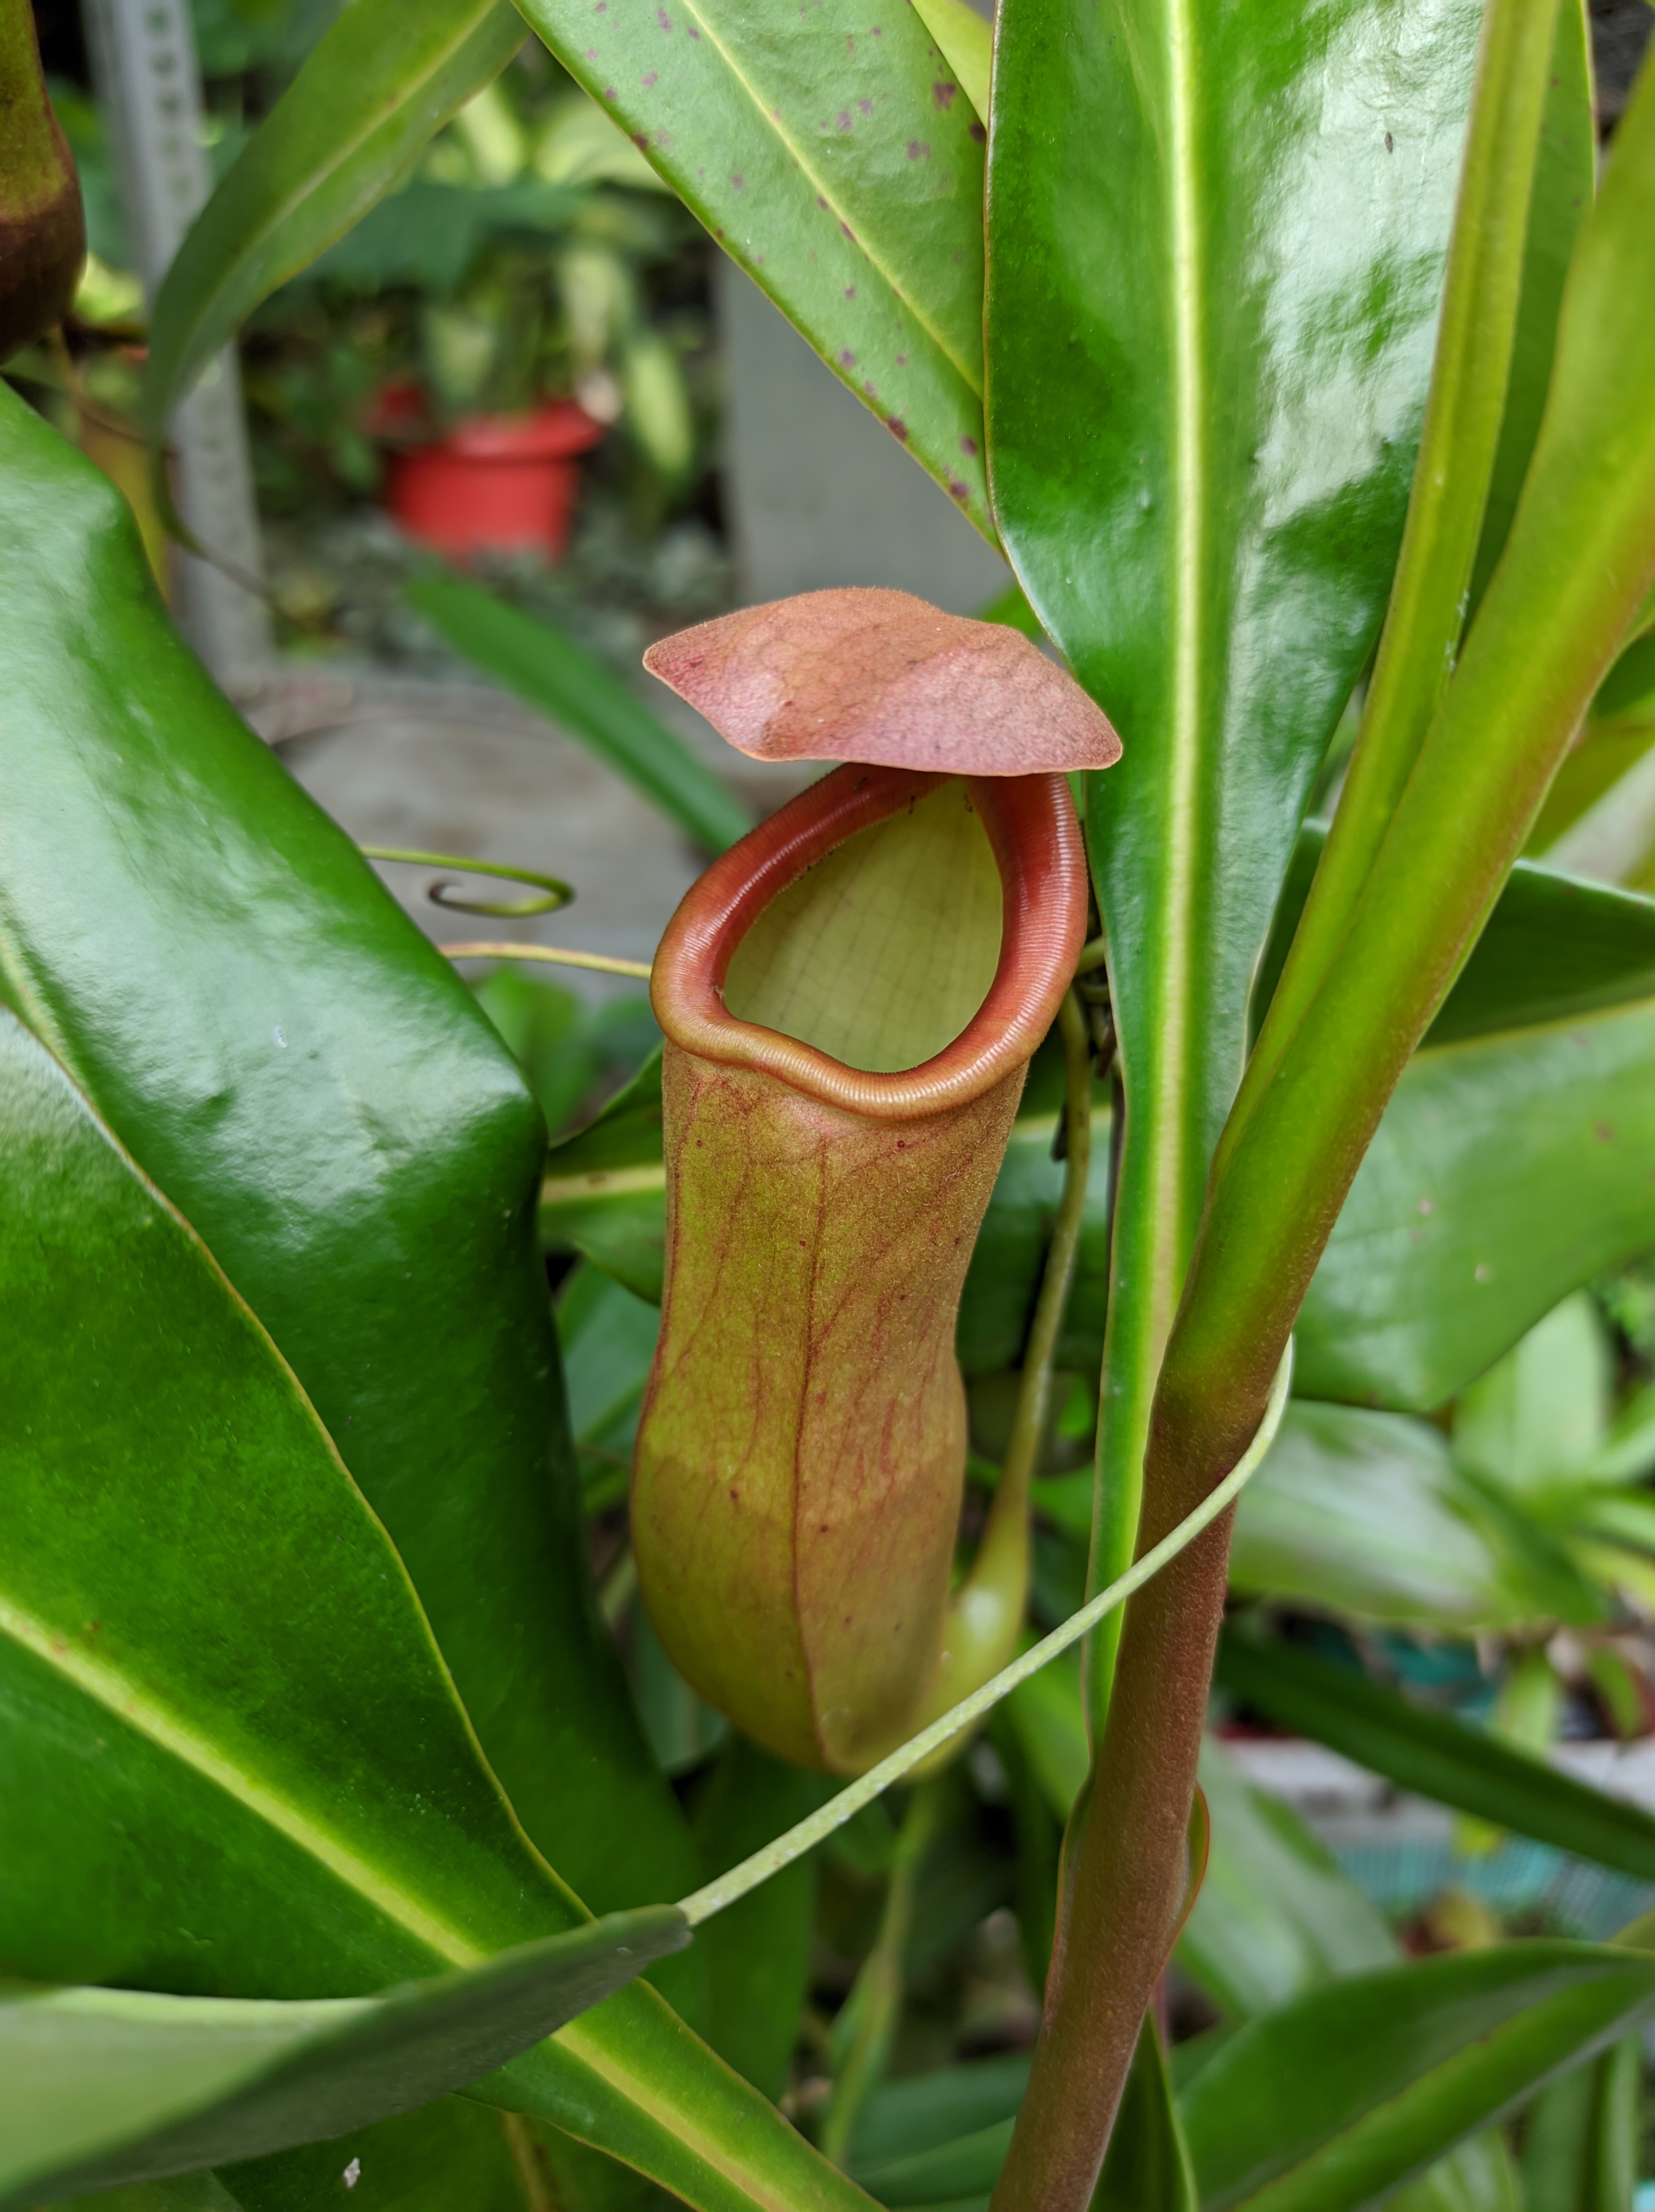Khasiana: (593, 548, 1180, 1845)
